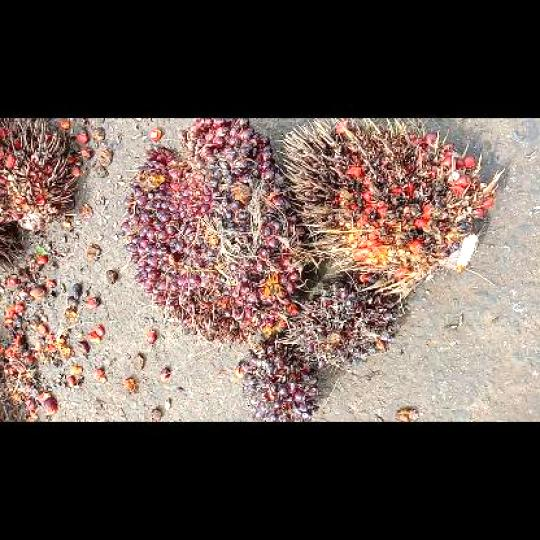masak: (120, 119, 311, 343)
terlalu masak: (280, 120, 496, 298)
